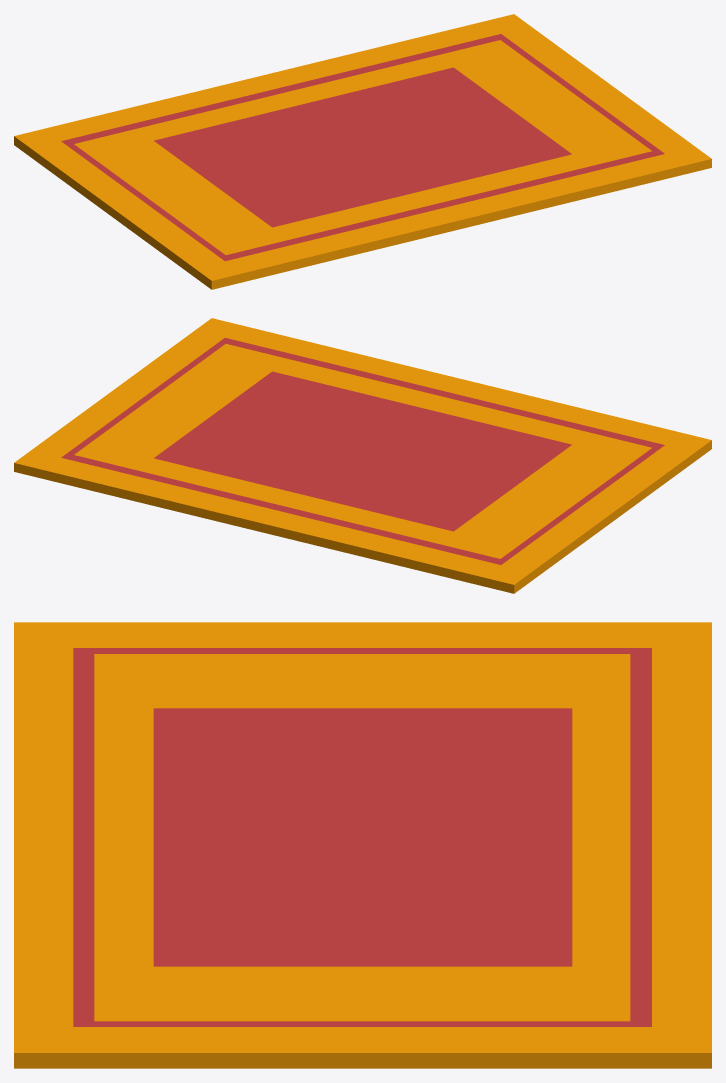
Rendered from Carpet_1A.fbx.
The picture shows the model from 3 angles, top to bottom: view 1: azimuth 30°, elevation 25°; view 2: azimuth 150°, elevation 25°; view 3: azimuth 270°, elevation 25°; orthographic projection. The views are drawn at different scales.
Visible parts, largest first — view 1: pPlane10; view 2: pPlane10; view 3: pPlane10.
Part boxes in pixels (box(x1,y1,x2,y2)): pPlane10: box(14, 14, 711, 289); pPlane10: box(14, 318, 711, 593); pPlane10: box(14, 622, 711, 1068).
Bounding box in the file's own units: 2.91 × 0.05 × 2.
1 material, 1 textured.
